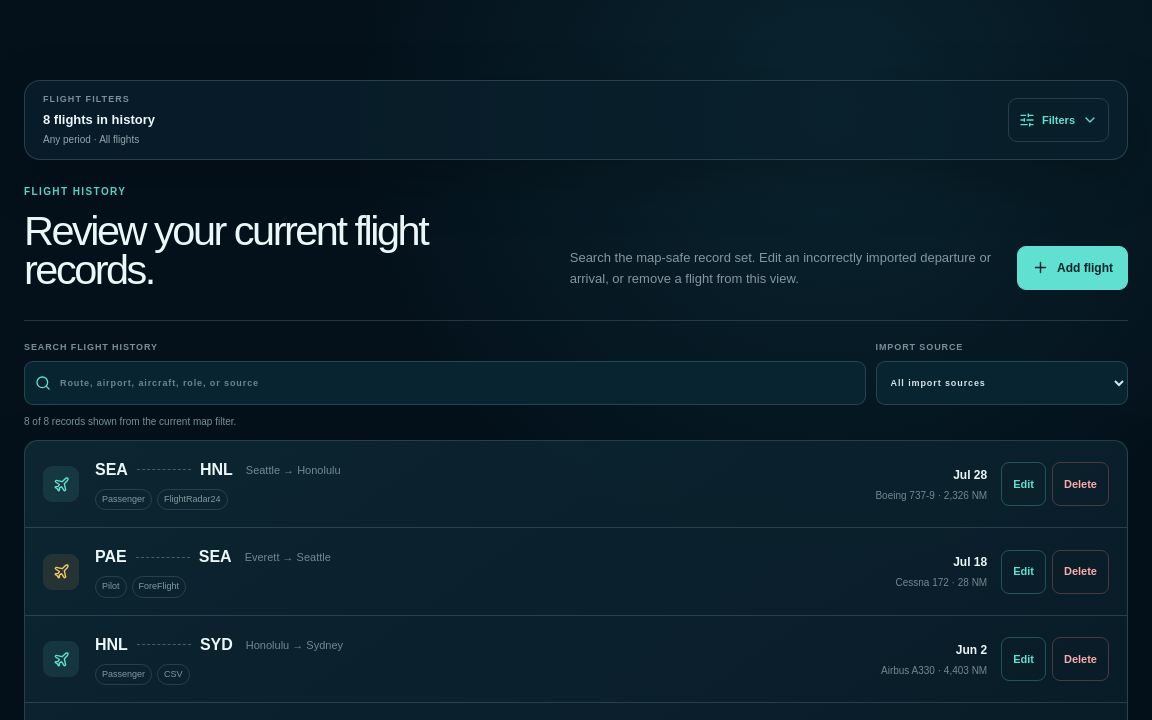
Test case: route clients › requires confirmation to delete and allows cancellation
Click the button "Delete" in the row of "Jul 28". click: (1080, 484)
box: [1052, 462, 1109, 506]
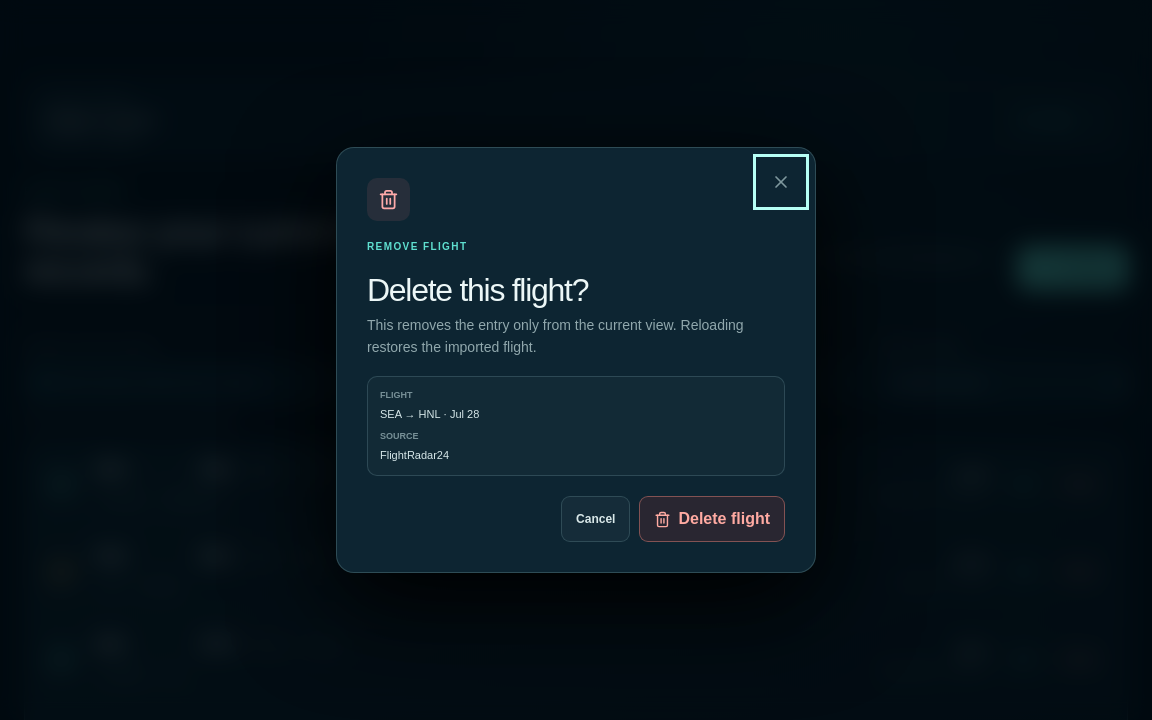
Expected: the text "only from the current view" is shown, [367, 317, 744, 355]
Click the button "Cancel". click: (596, 519)
box: [561, 496, 630, 542]
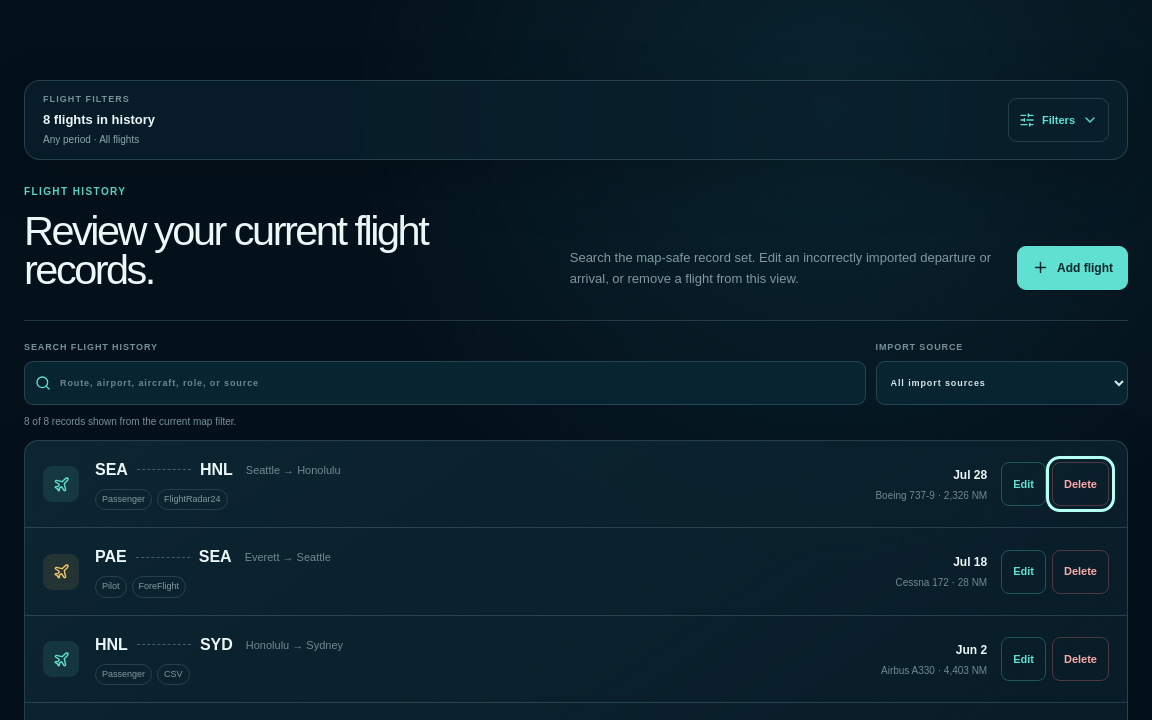
Click the button "Delete" in the row of "Jul 28". click: (1080, 484)
box: [1052, 462, 1109, 506]
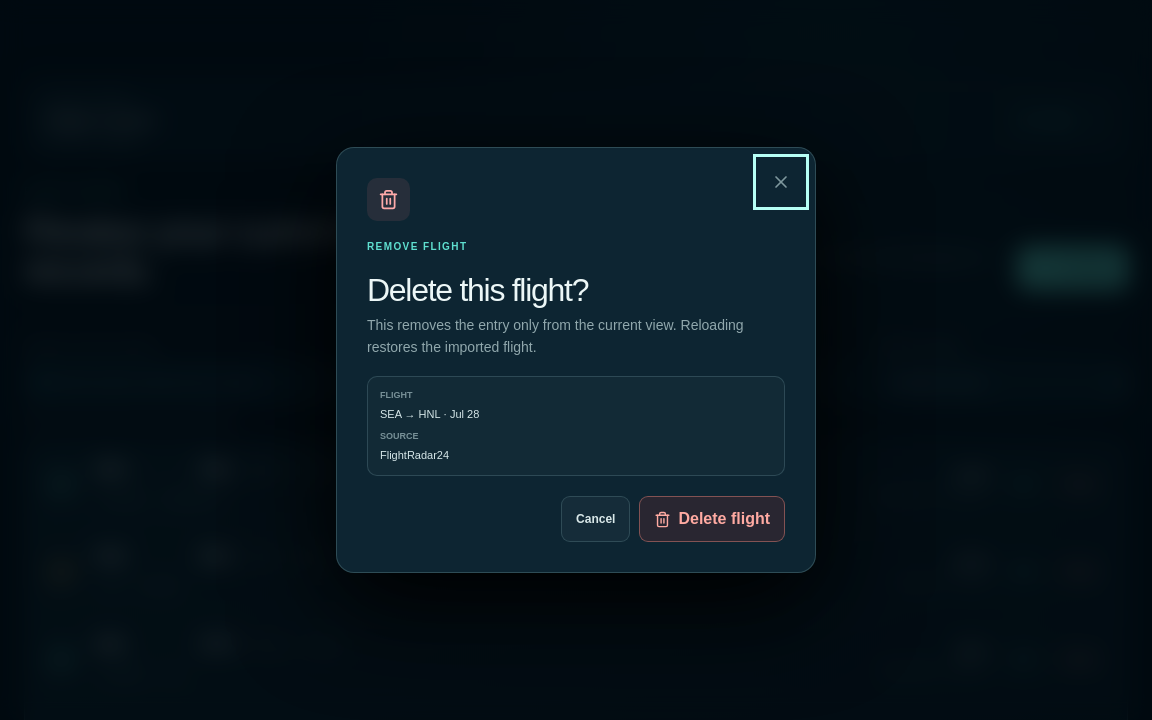
Click the button "Delete flight". click: (712, 519)
box: [639, 496, 785, 542]
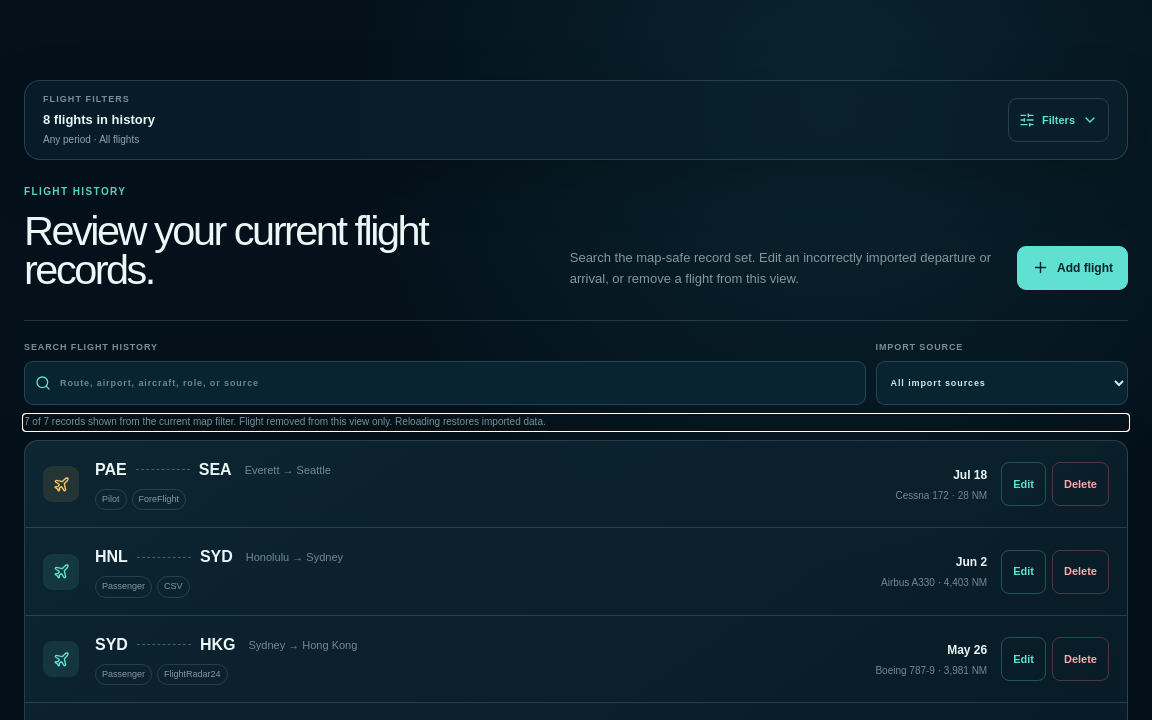
Expected: the number of buttons "Delete" is 7
Expected: the message named "Flight records status" shows "Flight removed from this view only. Reloading restores imported data.", [236, 416, 546, 427]
